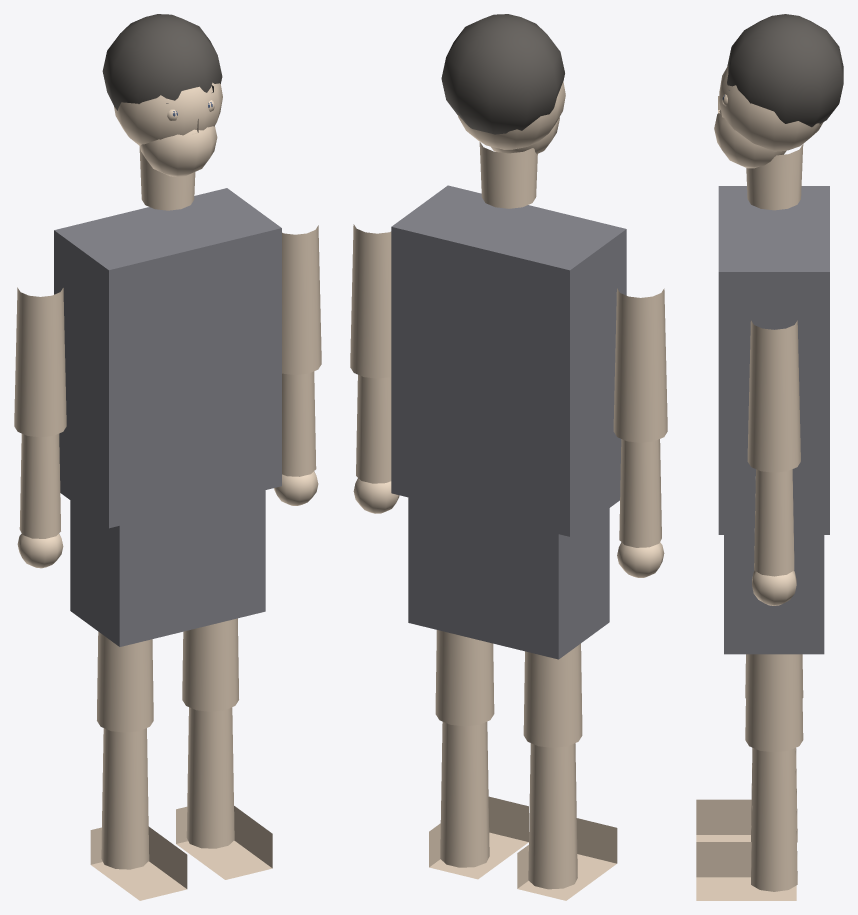
Rendered from body.glb.
3 views of the same model, side by side, from view 1: azimuth 30°, elevation 25°; view 2: azimuth 150°, elevation 25°; view 3: azimuth 270°, elevation 25° (orthographic). The views are drawn at different scales.
Visible parts, largest first — view 1: Cloth, Skin, Hair; view 2: Cloth, Skin, Hair; view 3: Skin, Cloth, Hair.
Boxes of the visible parts, left/top/right/bottom form: Cloth: left=54, top=188, right=281, bottom=646; Skin: left=14, top=82, right=321, bottom=900; Hair: left=102, top=14, right=222, bottom=110; Cloth: left=391, top=185, right=626, bottom=659; Skin: left=350, top=81, right=667, bottom=900; Hair: left=441, top=14, right=564, bottom=134; Skin: left=696, top=65, right=823, bottom=900; Cloth: left=718, top=186, right=829, bottom=654; Hair: left=727, top=14, right=843, bottom=127.
Size of the model in its own units: 0.6337 by 1.68 by 0.2646.
